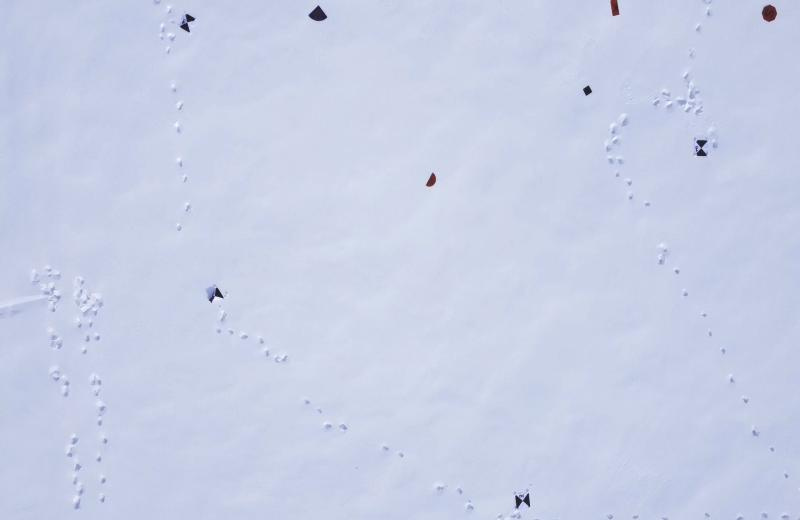Octagon: (761, 3, 778, 23)
Quarter Circle: (308, 4, 328, 24)
Rectangle: (609, 0, 620, 17)
Semi Circle: (426, 170, 437, 188)
Square: (582, 85, 592, 98)
